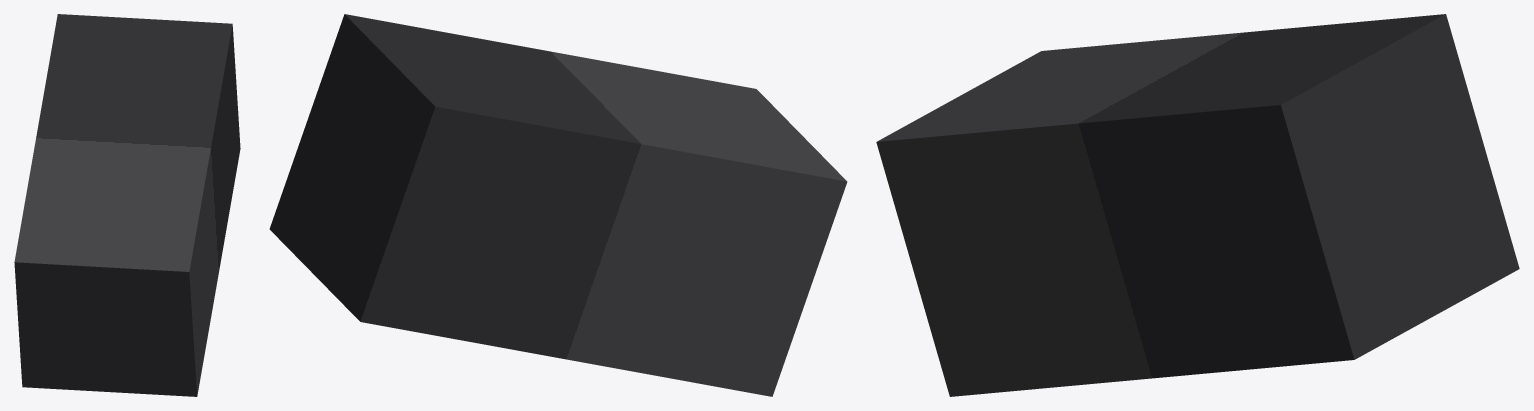
File: peony-seeds.gltf
The picture shows the model from 3 angles, left to right: view 1: azimuth 30°, elevation 25°; view 2: azimuth 150°, elevation 25°; view 3: azimuth 270°, elevation 25°; orthographic projection. The views are drawn at different scales.
Visible parts, largest first — view 1: cube; view 2: cube; view 3: cube.
Boxes of the visible parts, x1,y1,x2,y2 form: cube: (14, 14, 240, 396); cube: (269, 14, 847, 396); cube: (876, 14, 1519, 396).
Size of the model in its own units: 0.1341 by 0.1015 by 0.1482.
1 material, 1 textured.
